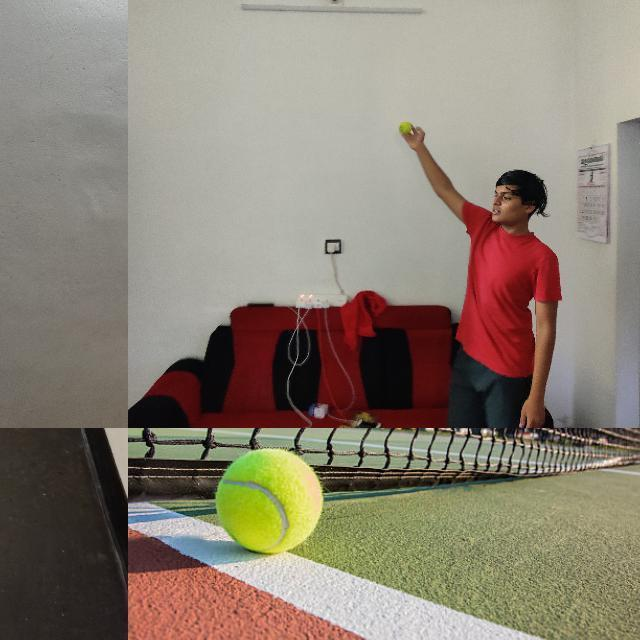tennis-ball: (215, 448, 323, 553), (399, 121, 412, 133)
